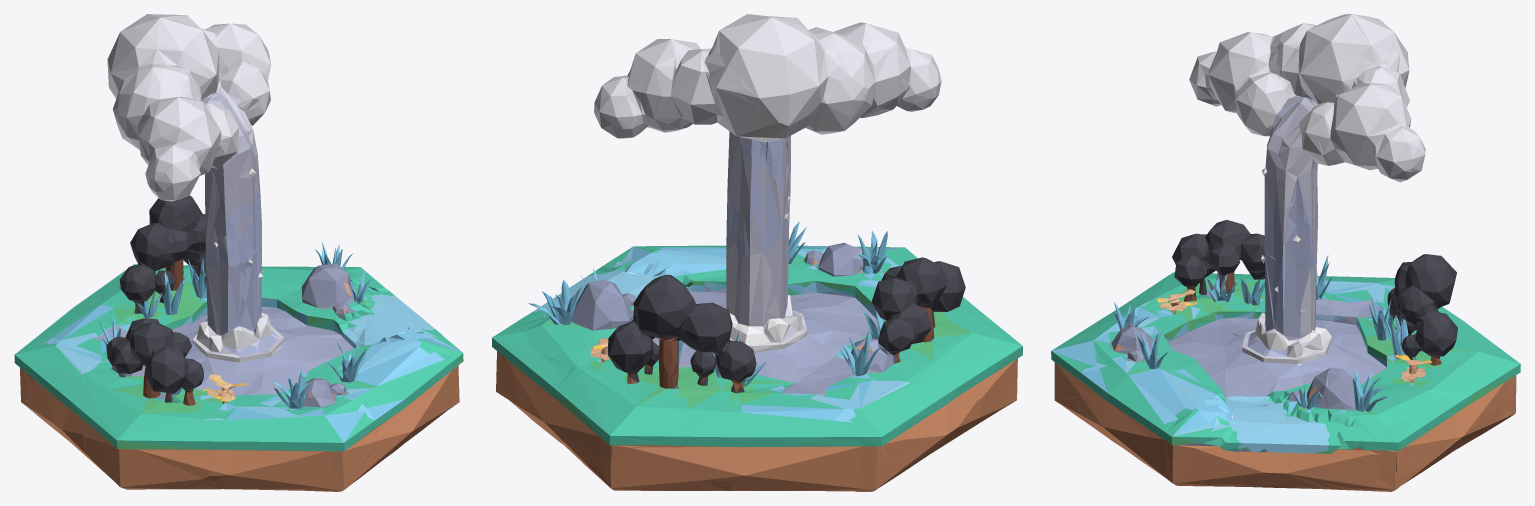
File: upside-down waterfall.glb
3 views of the same model, side by side, from view 1: azimuth 30°, elevation 25°; view 2: azimuth 150°, elevation 25°; view 3: azimuth 270°, elevation 25° (orthographic). The views are drawn at different scales.
Parts seen in each view (by area): view 1: threedium_node_eae6ce02-1d34-48fc-af4c-5a4a95c4d9dd; view 2: threedium_node_eae6ce02-1d34-48fc-af4c-5a4a95c4d9dd; view 3: threedium_node_eae6ce02-1d34-48fc-af4c-5a4a95c4d9dd.
Boxes of the visible parts, left/top/right/bottom form: threedium_node_eae6ce02-1d34-48fc-af4c-5a4a95c4d9dd: left=14, top=14, right=463, bottom=491; threedium_node_eae6ce02-1d34-48fc-af4c-5a4a95c4d9dd: left=492, top=14, right=1022, bottom=491; threedium_node_eae6ce02-1d34-48fc-af4c-5a4a95c4d9dd: left=1051, top=14, right=1520, bottom=491.
Size of the model in its own units: 0.9926 by 1.01 by 1.14.
Materials: 2 (2 with a texture image).
